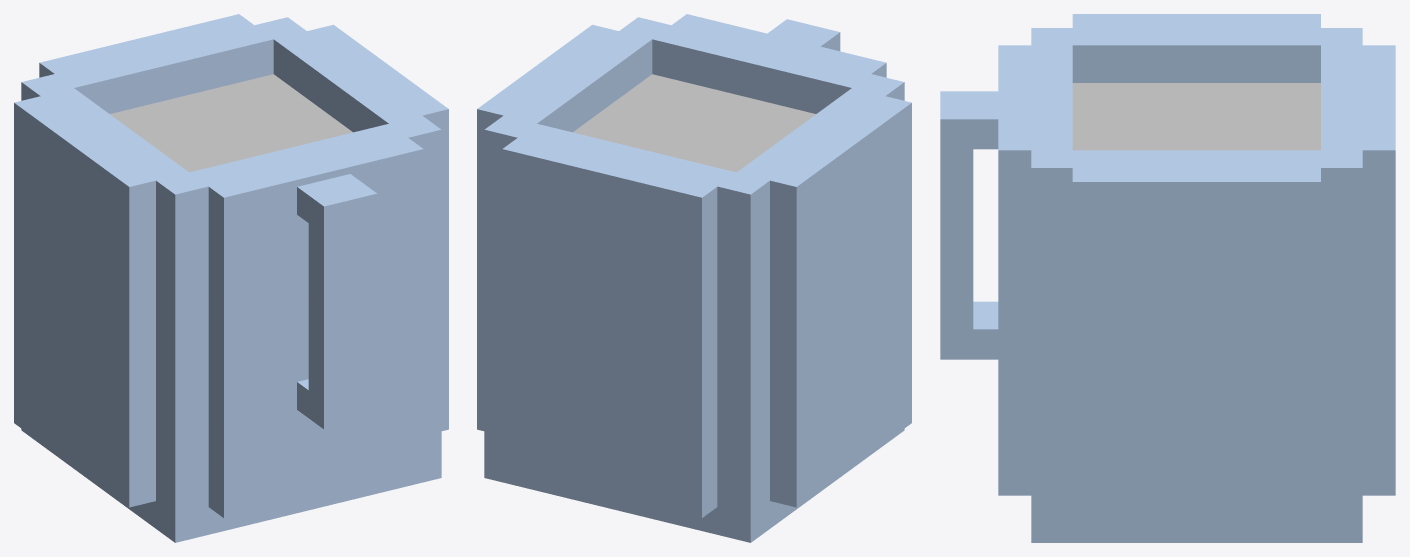
The model's file is mug_03.obj.
The picture shows the model from 3 angles, left to right: view 1: azimuth 30°, elevation 25°; view 2: azimuth 150°, elevation 25°; view 3: azimuth 270°, elevation 25°; orthographic projection. The views are drawn at different scales.
Parts seen in each view (by area): view 1: cube; view 2: cube; view 3: cube.
Part boxes in pixels (x1,y1,x2,y2): cube: [14, 14, 448, 542]; cube: [477, 14, 911, 542]; cube: [940, 14, 1395, 542].
Size of the model in its own units: 0.6 by 0.625 by 0.6875.
